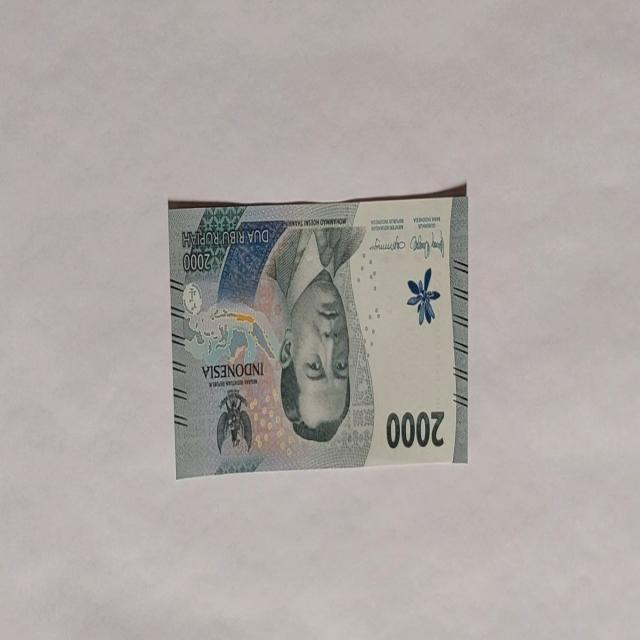dua ribu rupiah: (168, 186, 468, 477), (263, 226, 364, 444)
